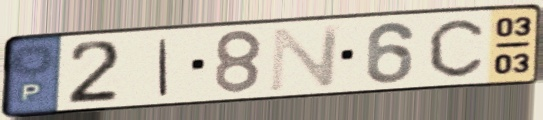2: (64, 38, 124, 106)
6: (362, 19, 417, 86)
8: (213, 27, 264, 97)
C: (425, 17, 487, 79)
I: (156, 37, 172, 98)
N: (266, 22, 345, 94)
